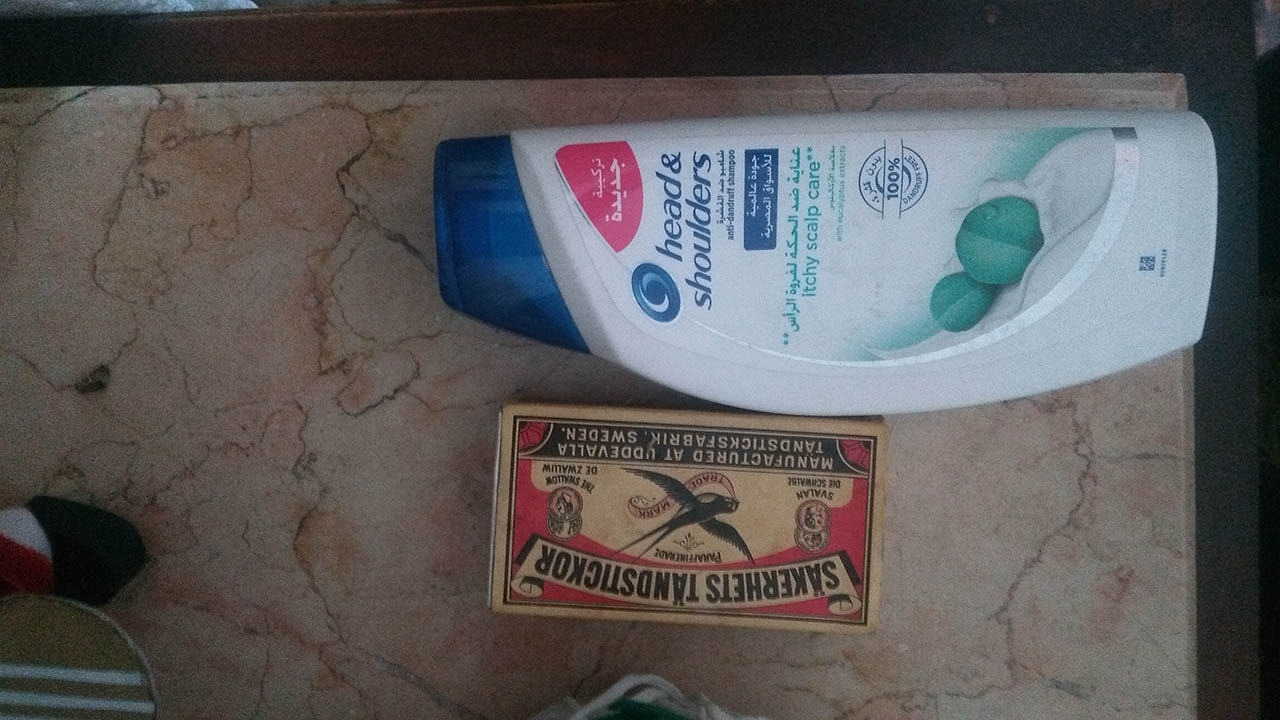match-sticks .90$: (493, 401, 877, 638)
shampoo-green 4.5$: (409, 98, 1232, 401)
